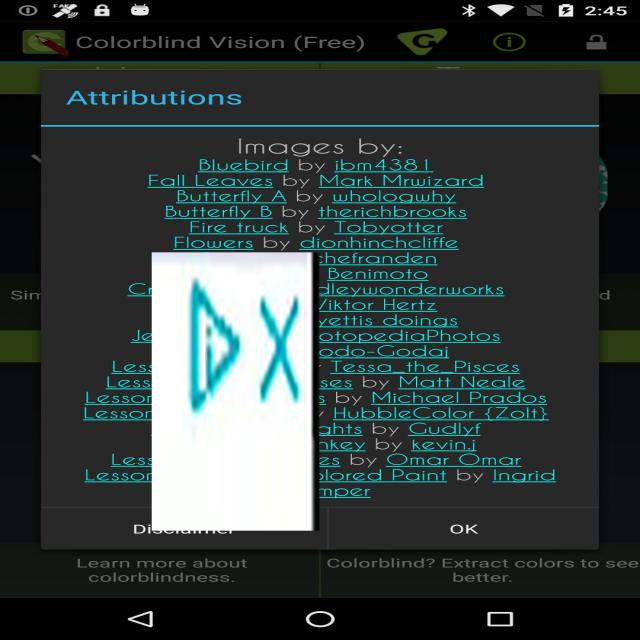sneaking: (152, 252, 319, 531)
